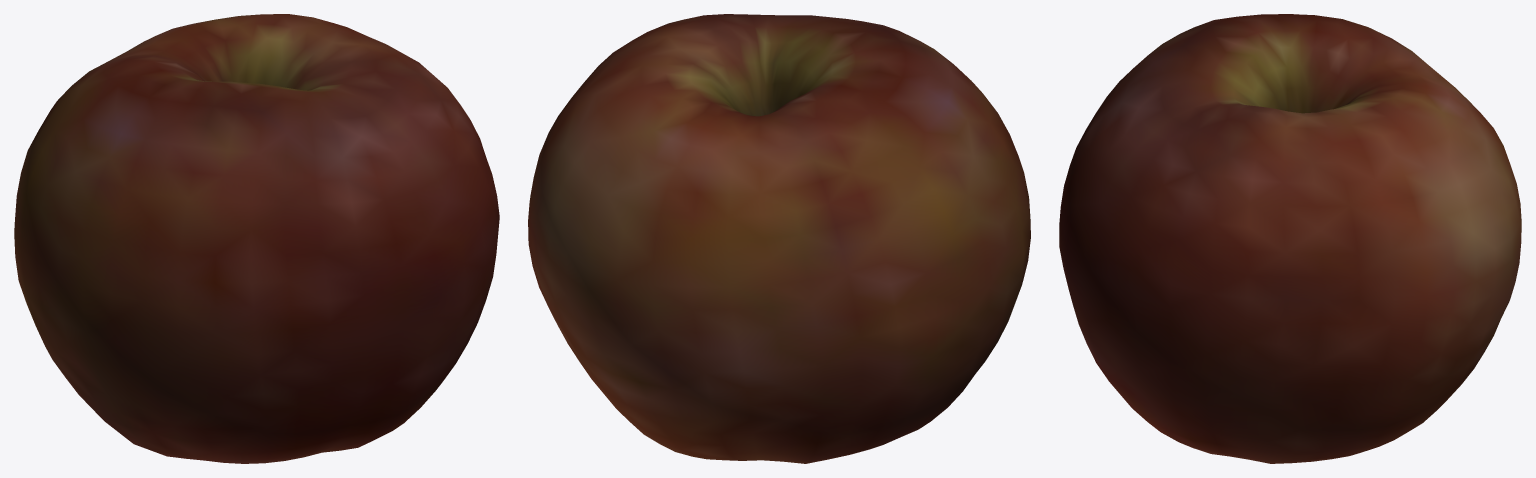
File: apple_3.fbx
The picture shows the model from 3 angles, left to right: view 1: azimuth 30°, elevation 25°; view 2: azimuth 150°, elevation 25°; view 3: azimuth 270°, elevation 25°; orthographic projection. The views are drawn at different scales.
Parts seen in each view (by area): view 1: apple_3; view 2: apple_3; view 3: apple_3.
Boxes of the visible parts, bbox=[...] form: apple_3: bbox=[14, 14, 499, 463]; apple_3: bbox=[528, 14, 1030, 463]; apple_3: bbox=[1059, 14, 1521, 463].
Size of the model in its own units: 11.92 by 10.2 by 11.77.
